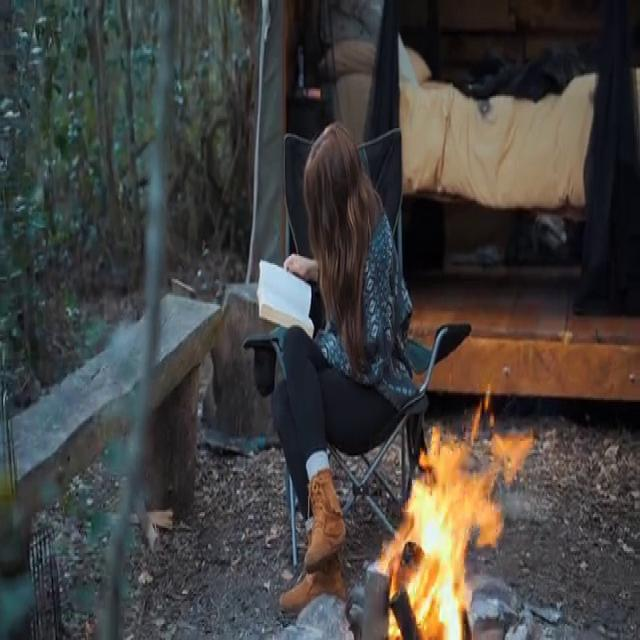Fire: (376, 390, 528, 635)
